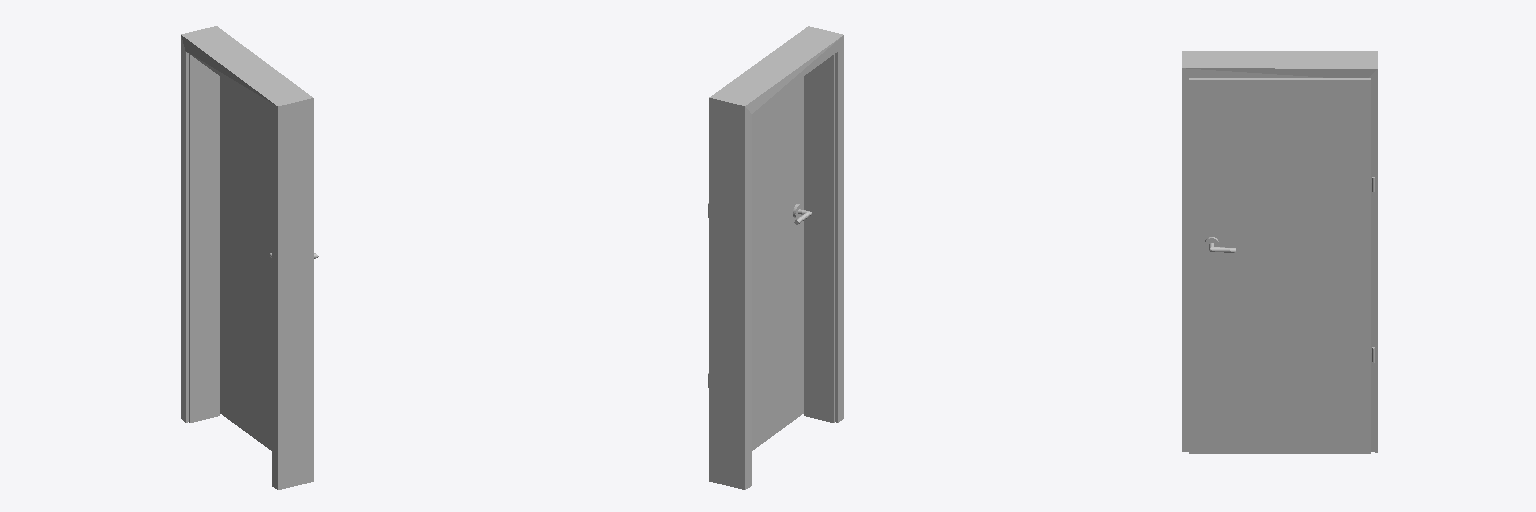
Rendered from door107.obj.
3 views of the same model, side by side, from view 1: azimuth 30°, elevation 25°; view 2: azimuth 150°, elevation 25°; view 3: azimuth 270°, elevation 25° (orthographic).
Parts seen in each view (by area): view 1: Cylinder.005, Cylinder.001; view 2: Cylinder.005, Cylinder.001; view 3: Cylinder.001, Cylinder.005.
Boxes of the visible parts, x1,y1,x2,y2 form: Cylinder.005: [181, 26, 313, 489]; Cylinder.001: [220, 77, 271, 450]; Cylinder.005: [708, 26, 843, 489]; Cylinder.001: [708, 77, 803, 450]; Cylinder.001: [1189, 78, 1374, 453]; Cylinder.005: [1182, 51, 1377, 452].
Bounding box in the file's own units: 0.3039 × 2.05 × 0.95.